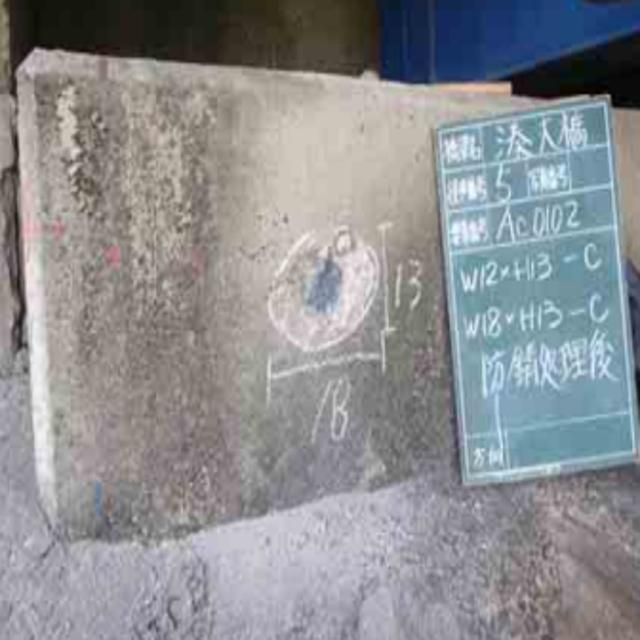spalling: (263, 223, 378, 357)
